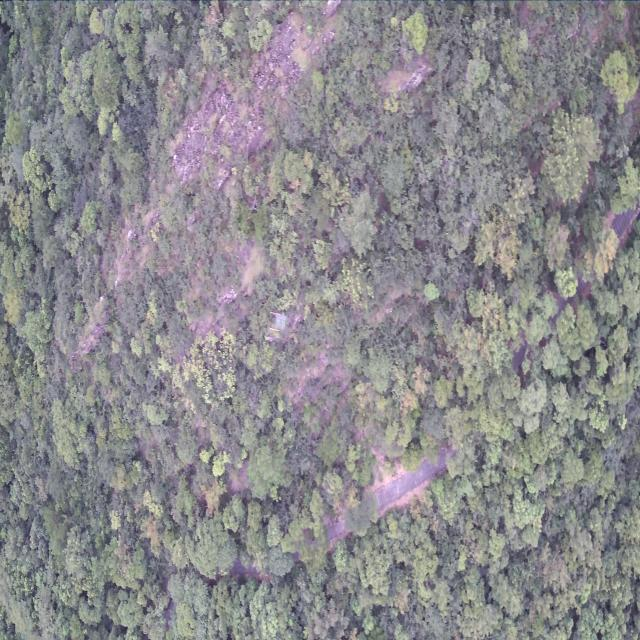drone: (269, 310, 287, 336)
